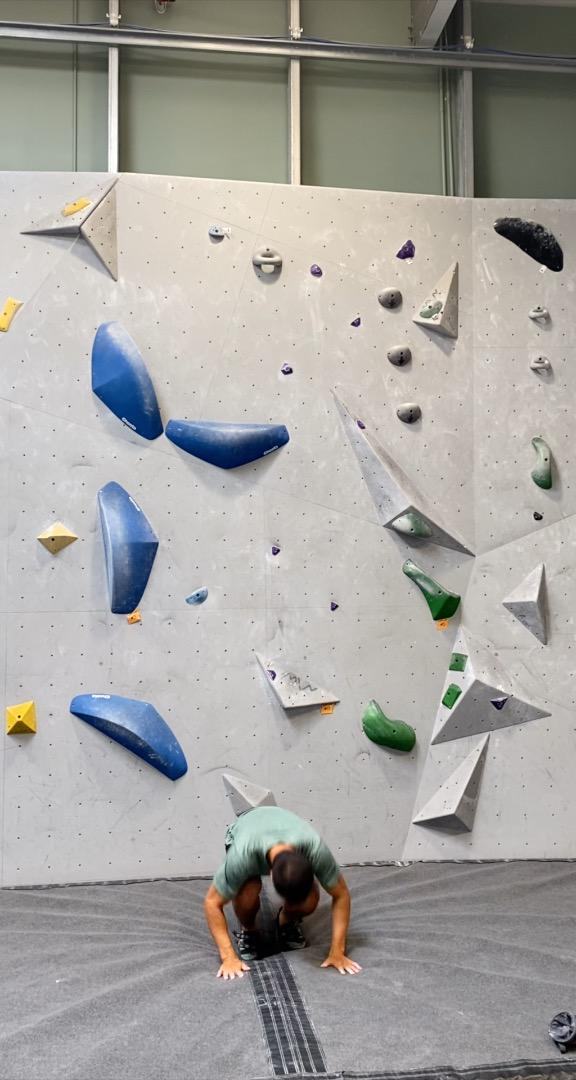holds: (68, 692, 190, 784), (89, 320, 165, 442), (96, 479, 161, 617), (164, 418, 291, 473), (492, 215, 565, 273), (401, 557, 463, 623), (360, 696, 417, 754), (36, 518, 80, 556), (529, 435, 554, 491), (4, 698, 38, 737), (390, 511, 435, 540), (0, 295, 26, 333), (251, 244, 283, 269), (60, 195, 92, 218), (385, 343, 413, 367), (377, 286, 404, 310), (395, 402, 423, 425), (440, 682, 463, 710), (417, 298, 445, 320), (185, 585, 209, 607), (395, 238, 417, 261), (447, 651, 470, 673), (528, 353, 552, 371), (527, 304, 550, 320), (489, 695, 510, 711), (207, 224, 227, 239), (308, 262, 325, 278), (264, 666, 277, 682), (280, 362, 294, 376), (270, 544, 282, 558), (349, 316, 362, 328), (532, 510, 545, 522), (356, 418, 366, 430), (330, 601, 340, 612)
